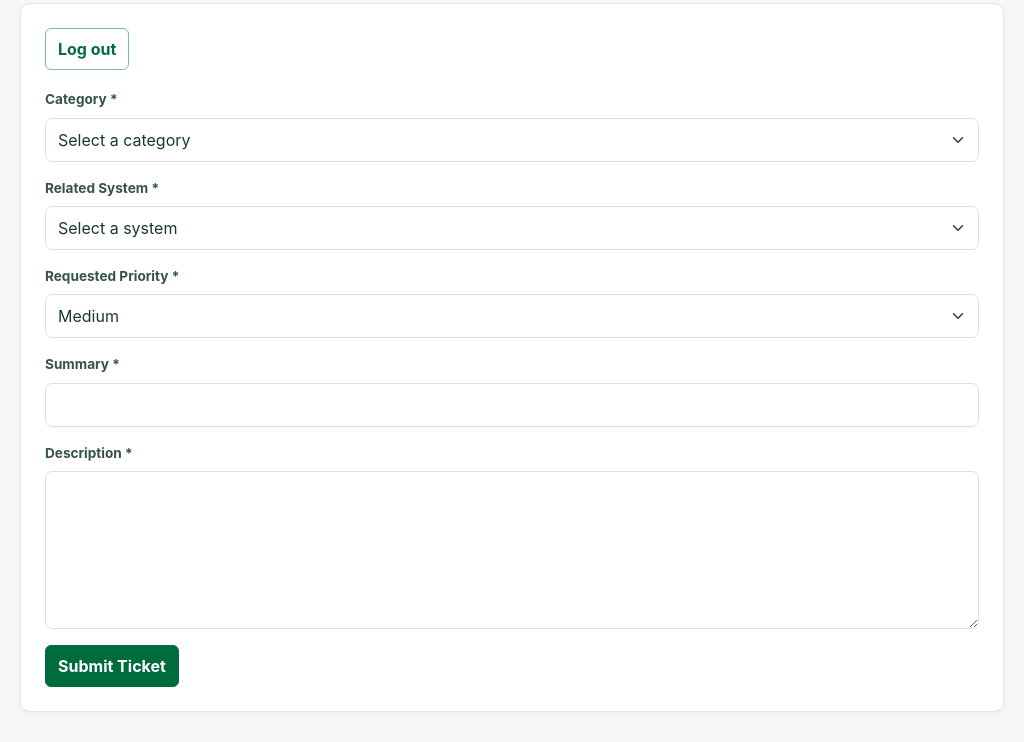
Test: Create Ticket › shows field validation for an authenticated requester
(page scrolled)
What coordinates should you click on to do the following:
click the button "Submit Ticket"
I would click on:
 (112, 666)
Its box is [45, 645, 179, 687].
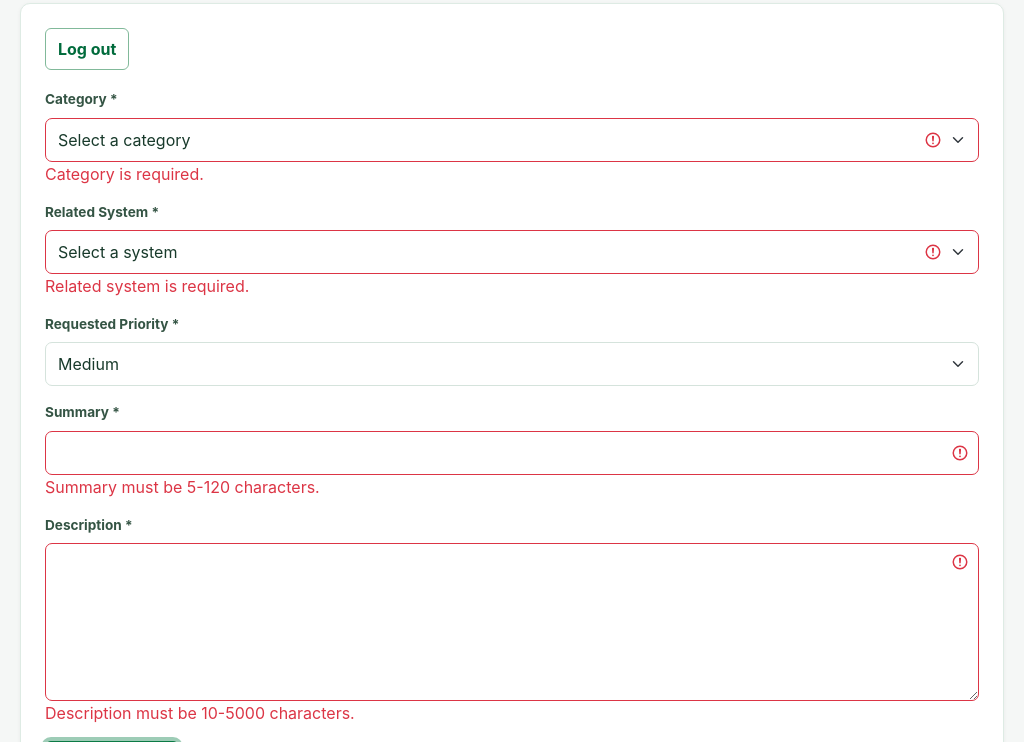
Check: the text "Category is required." is shown, box [45, 164, 204, 184]
